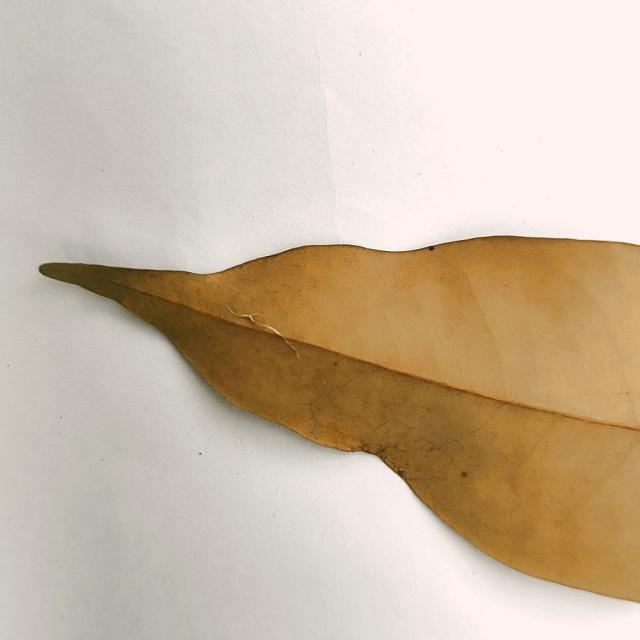Dry_Leaf-Lychee: (40, 237, 639, 606)
